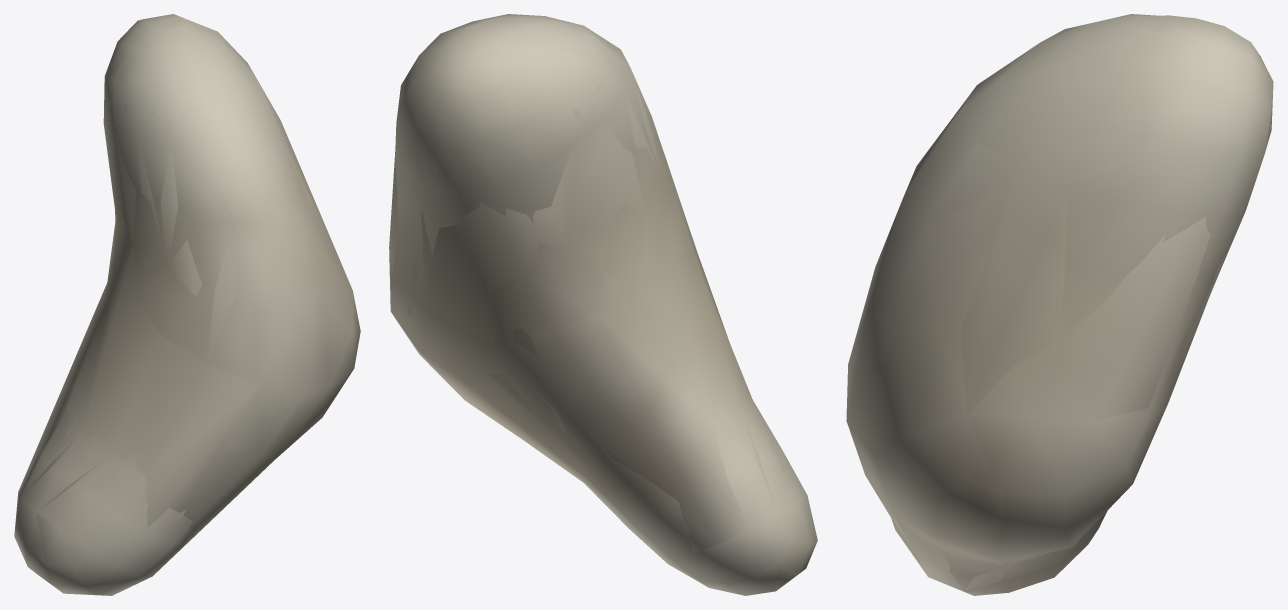
Rendered from R carpi intermedium.fbx.
3 views of the same model, side by side, from view 1: azimuth 30°, elevation 25°; view 2: azimuth 150°, elevation 25°; view 3: azimuth 270°, elevation 25° (orthographic). The views are drawn at different scales.
Parts seen in each view (by area): view 1: R carpi intermedium, R carpi intermedium low, R carpi intermedium high; view 2: R carpi intermedium, R carpi intermedium low, R carpi intermedium high; view 3: R carpi intermedium, R carpi intermedium low, R carpi intermedium high.
Boxes of the visible parts, x1=… form: R carpi intermedium: x1=14, y1=14, x2=360, y2=595; R carpi intermedium low: x1=19, y1=18, x2=352, y2=593; R carpi intermedium high: x1=64, y1=34, x2=297, y2=555; R carpi intermedium: x1=389, y1=14, x2=817, y2=595; R carpi intermedium low: x1=389, y1=19, x2=817, y2=590; R carpi intermedium high: x1=406, y1=23, x2=776, y2=587; R carpi intermedium: x1=846, y1=14, x2=1273, y2=595; R carpi intermedium low: x1=851, y1=15, x2=1266, y2=590; R carpi intermedium high: x1=869, y1=15, x2=1209, y2=579.
Size of the model in its own units: 0.4062 by 0.5693 by 0.3355.
1 material, 1 textured.
